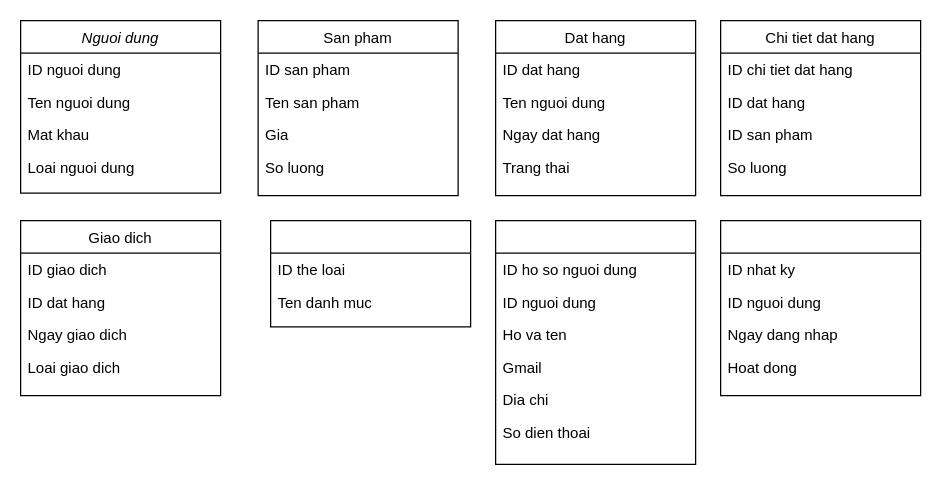
Image size: 941x485. Some labels were removed from this diagram. The box of each missing label's shape, as (x1, y1, x2, y2) in pixels:
Danh muc san pham: (269, 219, 471, 327)
Nhat ky quan tri: (719, 219, 921, 396)
Thong tin nguoi dung: (494, 219, 696, 464)
